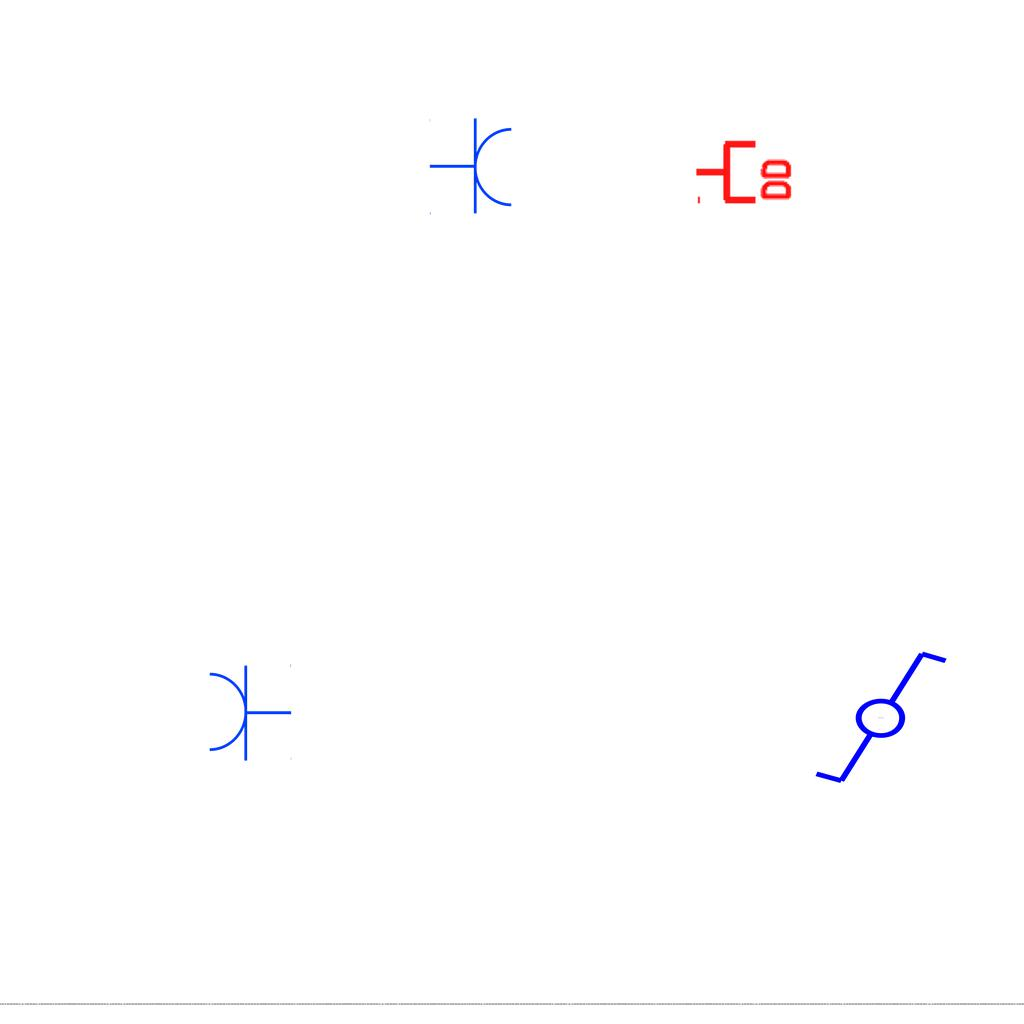Datenanschluss_zweifach: (693, 136, 796, 205)
Schukosteckdose_einfach: (429, 117, 516, 217), (205, 662, 292, 762)
Wechselschalter: (794, 644, 951, 788)
